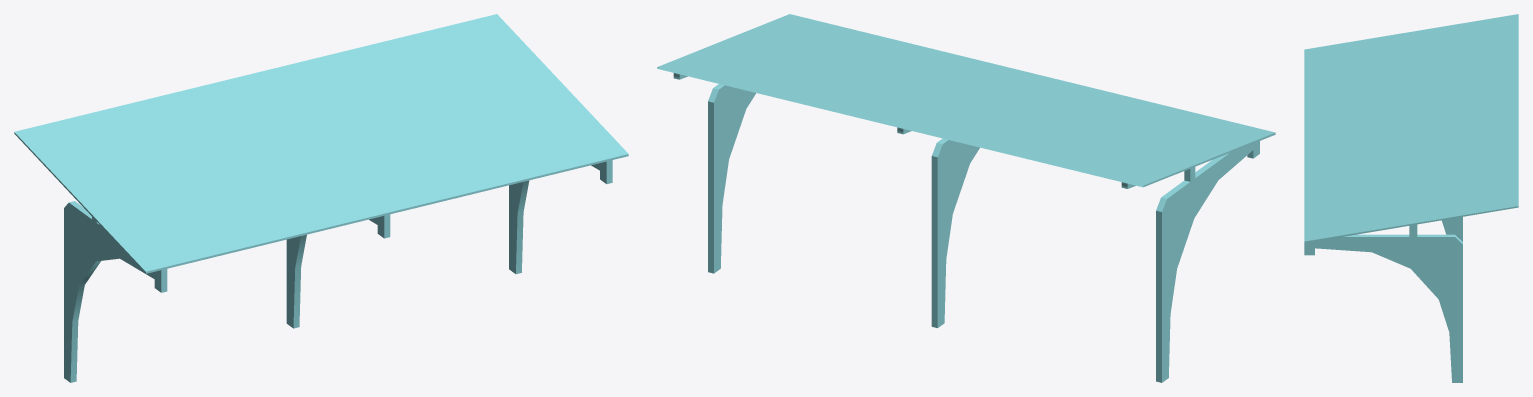
Rendered from RoofSmallCollider.fbx.
The picture shows the model from 3 angles, left to right: view 1: azimuth 30°, elevation 25°; view 2: azimuth 150°, elevation 25°; view 3: azimuth 270°, elevation 25°; orthographic projection. The views are drawn at different scales.
Visible parts, largest first — view 1: RoofSmallCollider; view 2: RoofSmallCollider; view 3: RoofSmallCollider.
Part boxes in pixels (left/top/right/bottom): RoofSmallCollider: left=14, top=14, right=628, bottom=382; RoofSmallCollider: left=657, top=14, right=1275, bottom=382; RoofSmallCollider: left=1304, top=14, right=1518, bottom=382.
Bounding box in the file's own units: 1206 × 537 × 569.
